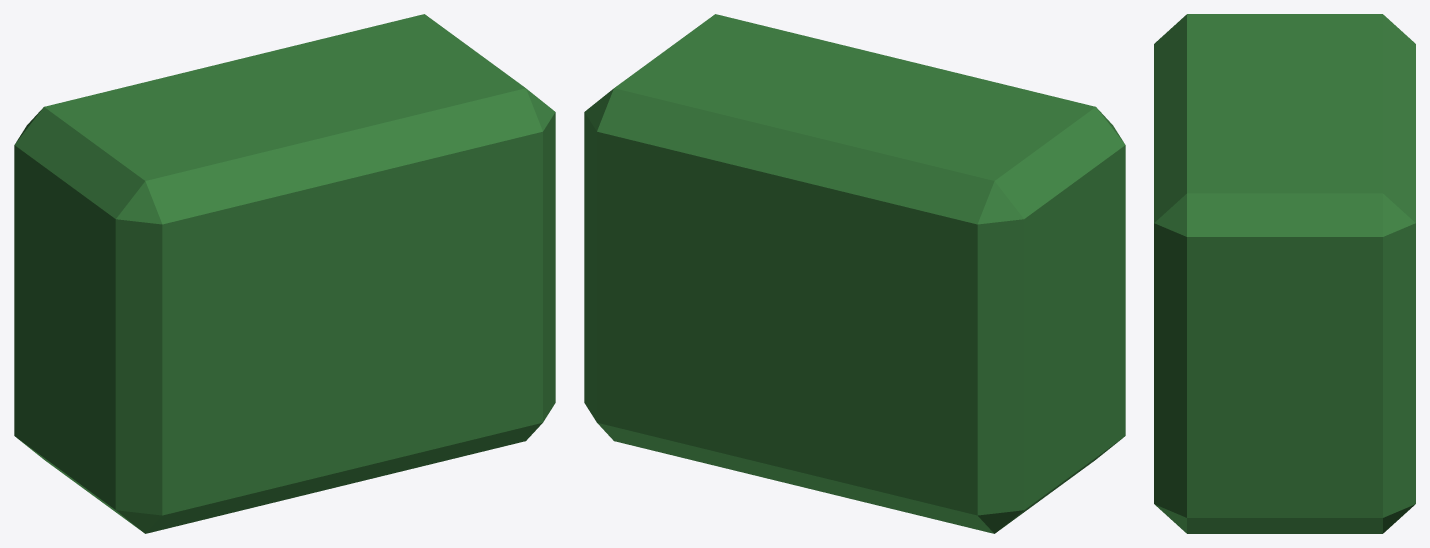
File: m_kub_dung_brick_mid.fbx
The picture shows the model from 3 angles, left to right: view 1: azimuth 30°, elevation 25°; view 2: azimuth 150°, elevation 25°; view 3: azimuth 270°, elevation 25°; orthographic projection. The views are drawn at different scales.
Visible parts, largest first — view 1: m_kub_dung_brick_mid; view 2: m_kub_dung_brick_mid; view 3: m_kub_dung_brick_mid.
Part boxes in pixels (box(x1,y1,x2,y2)): m_kub_dung_brick_mid: box(14, 14, 555, 533); m_kub_dung_brick_mid: box(584, 14, 1125, 533); m_kub_dung_brick_mid: box(1154, 14, 1415, 533).
Bounding box in the file's own units: 2.15 × 1.65 × 1.15.
